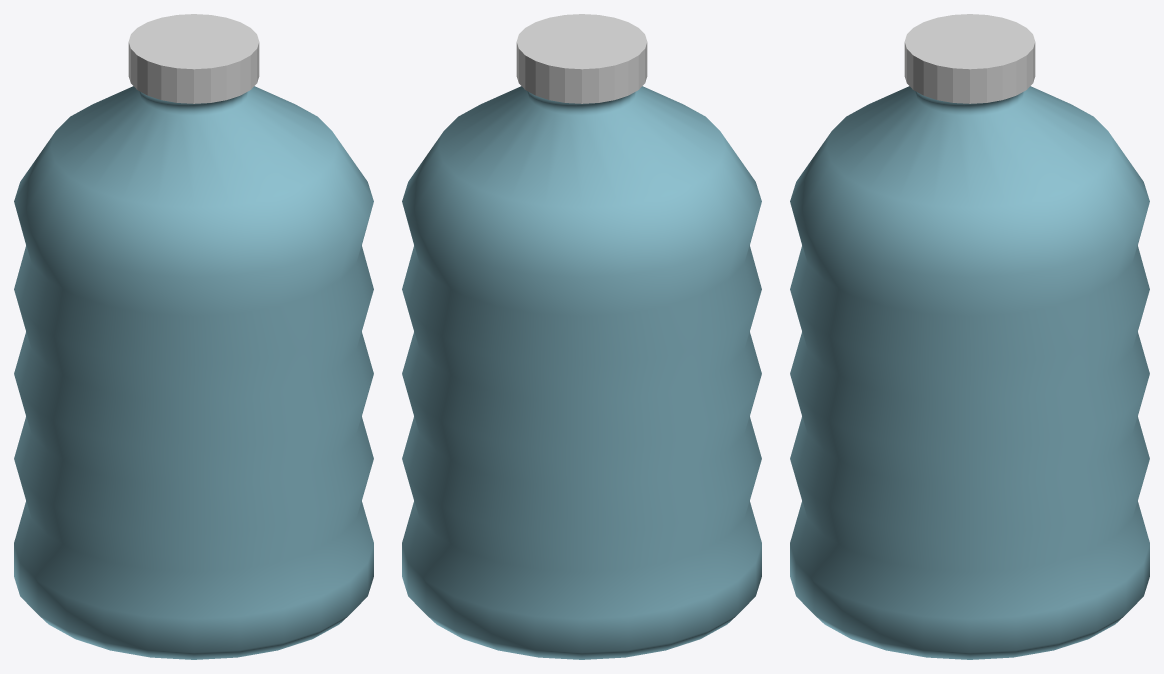
File: Plastic_Bottle_3.fbx
3 views of the same model, side by side, from view 1: azimuth 30°, elevation 25°; view 2: azimuth 150°, elevation 25°; view 3: azimuth 270°, elevation 25° (orthographic).
Parts seen in each view (by area): view 1: Cylinder.031; view 2: Cylinder.031; view 3: Cylinder.031.
Boxes of the visible parts, left/top/right/bottom form: Cylinder.031: left=14, top=14, right=373, bottom=659; Cylinder.031: left=402, top=14, right=761, bottom=659; Cylinder.031: left=790, top=14, right=1149, bottom=659.
Size of the model in its own units: 24.93 by 41.83 by 24.93.
